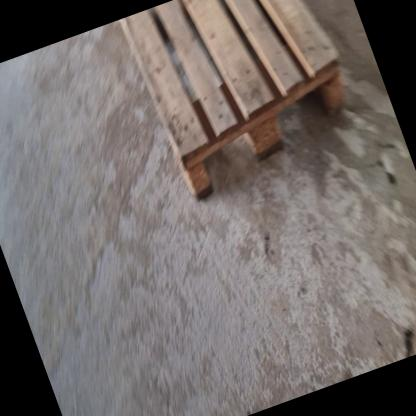BoxFace: (115, 0, 354, 212)
